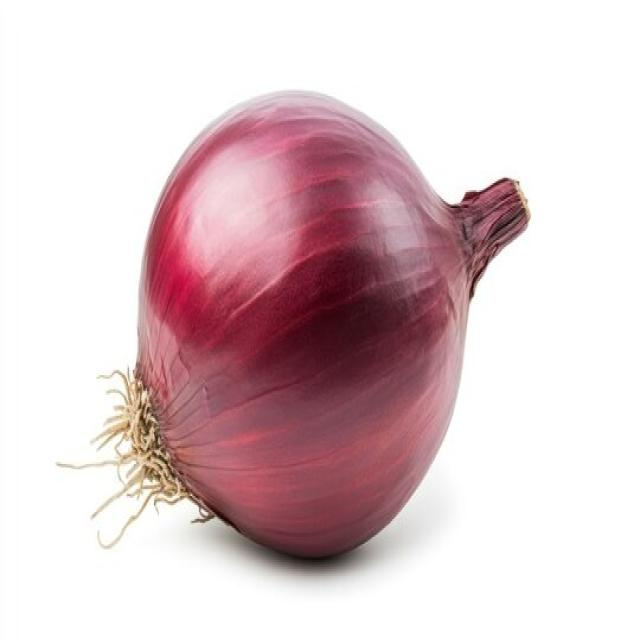Onion: (56, 85, 530, 560)
